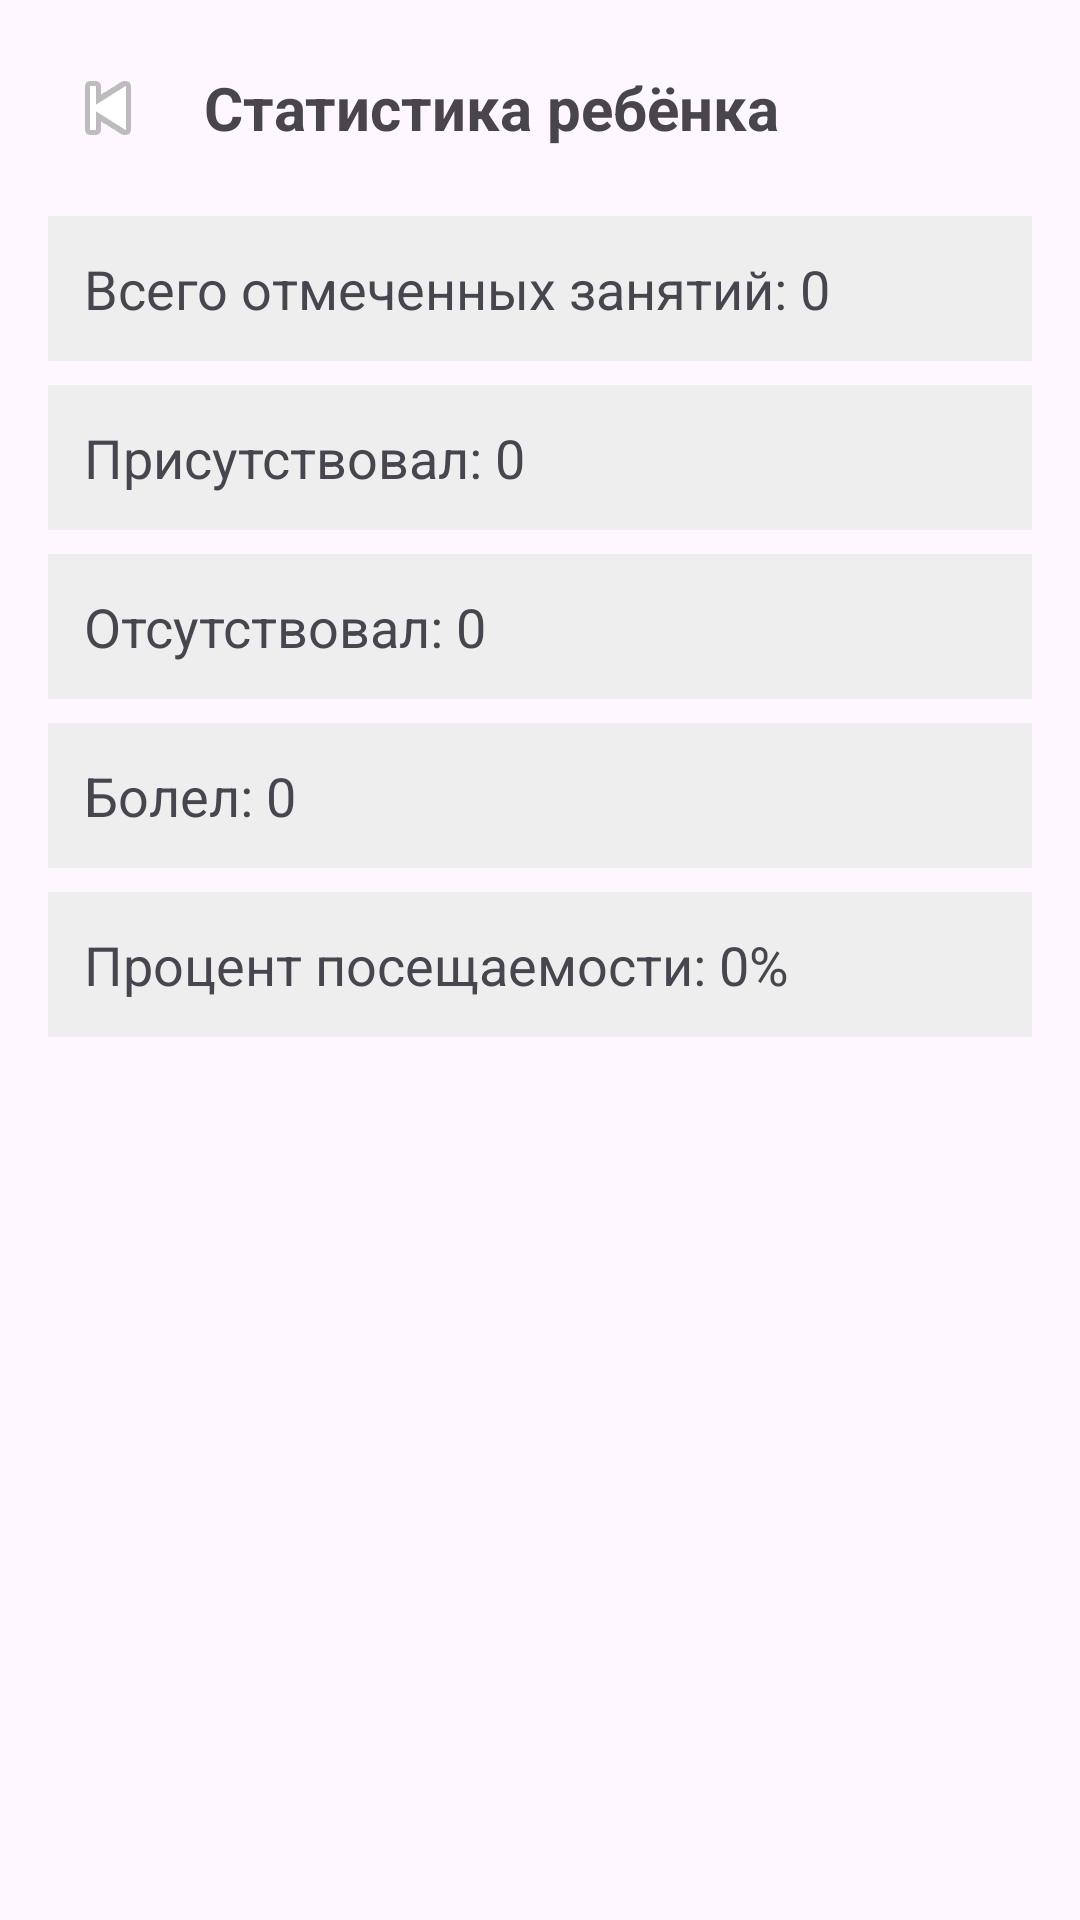

Where to tap for icons on this 1080x1920 app screen, as [x,y]:
previous: [108,108]
